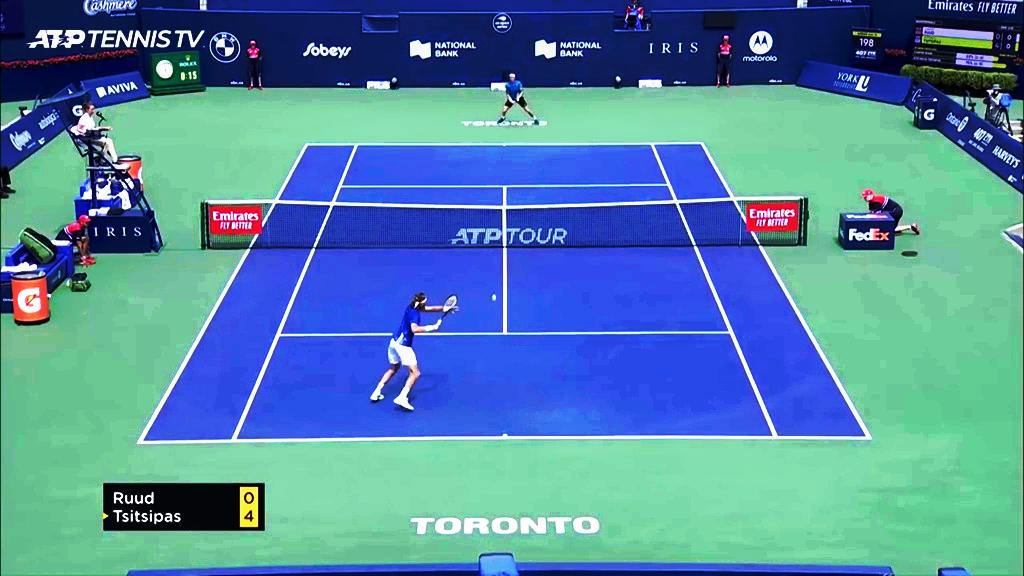tennis-court: (136, 143, 873, 444)
